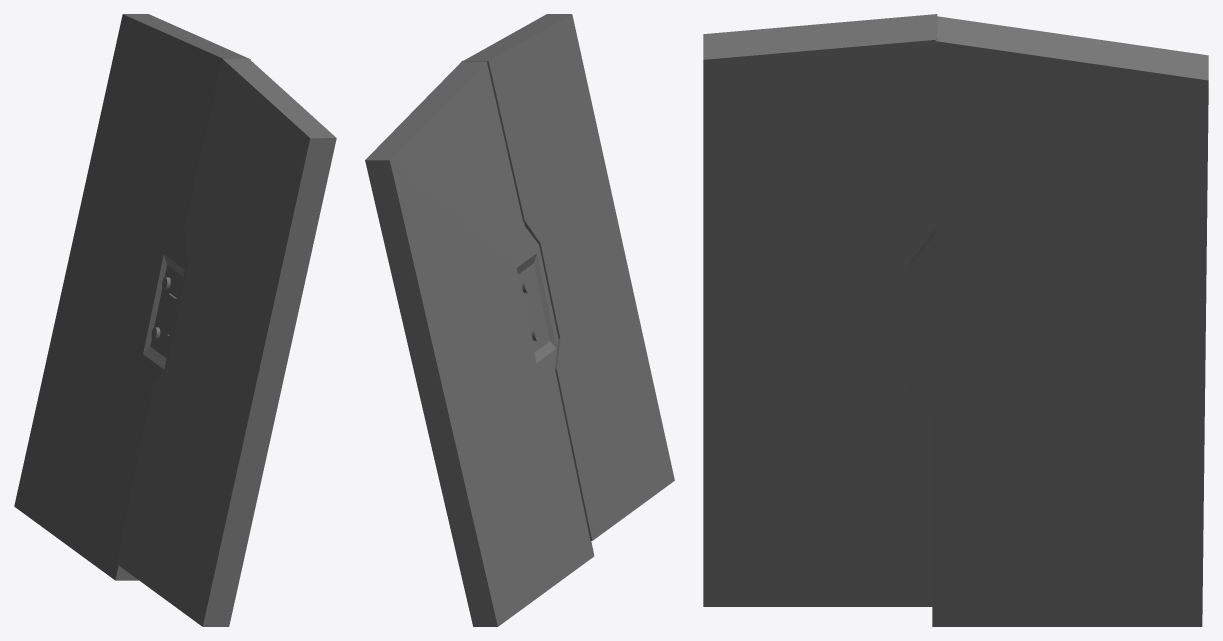
File: Door.fbx
3 views of the same model, side by side, from view 1: azimuth 30°, elevation 25°; view 2: azimuth 150°, elevation 25°; view 3: azimuth 270°, elevation 25° (orthographic). The views are drawn at different scales.
Parts seen in each view (by area): view 1: Plane.014, Plane.015; view 2: Plane.015, Plane.014; view 3: Plane.015, Plane.014.
Part boxes in pixels (x1,y1,x2,y2): Plane.014: (116,58,336,626); Plane.015: (14,14,250,580); Plane.015: (365,60,594,626); Plane.014: (463,14,674,540); Plane.015: (905,16,1208,626); Plane.014: (703,14,937,606).
Size of the model in its own units: 4.96 by 17.3 by 11.88.
